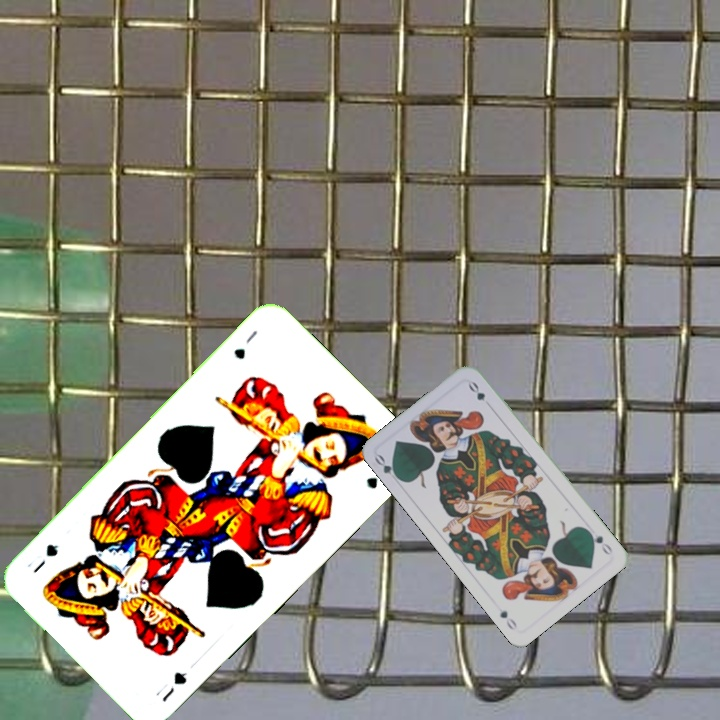GO: (370, 450, 404, 485), (583, 525, 615, 557)
GU: (157, 667, 190, 705), (229, 326, 261, 362)
